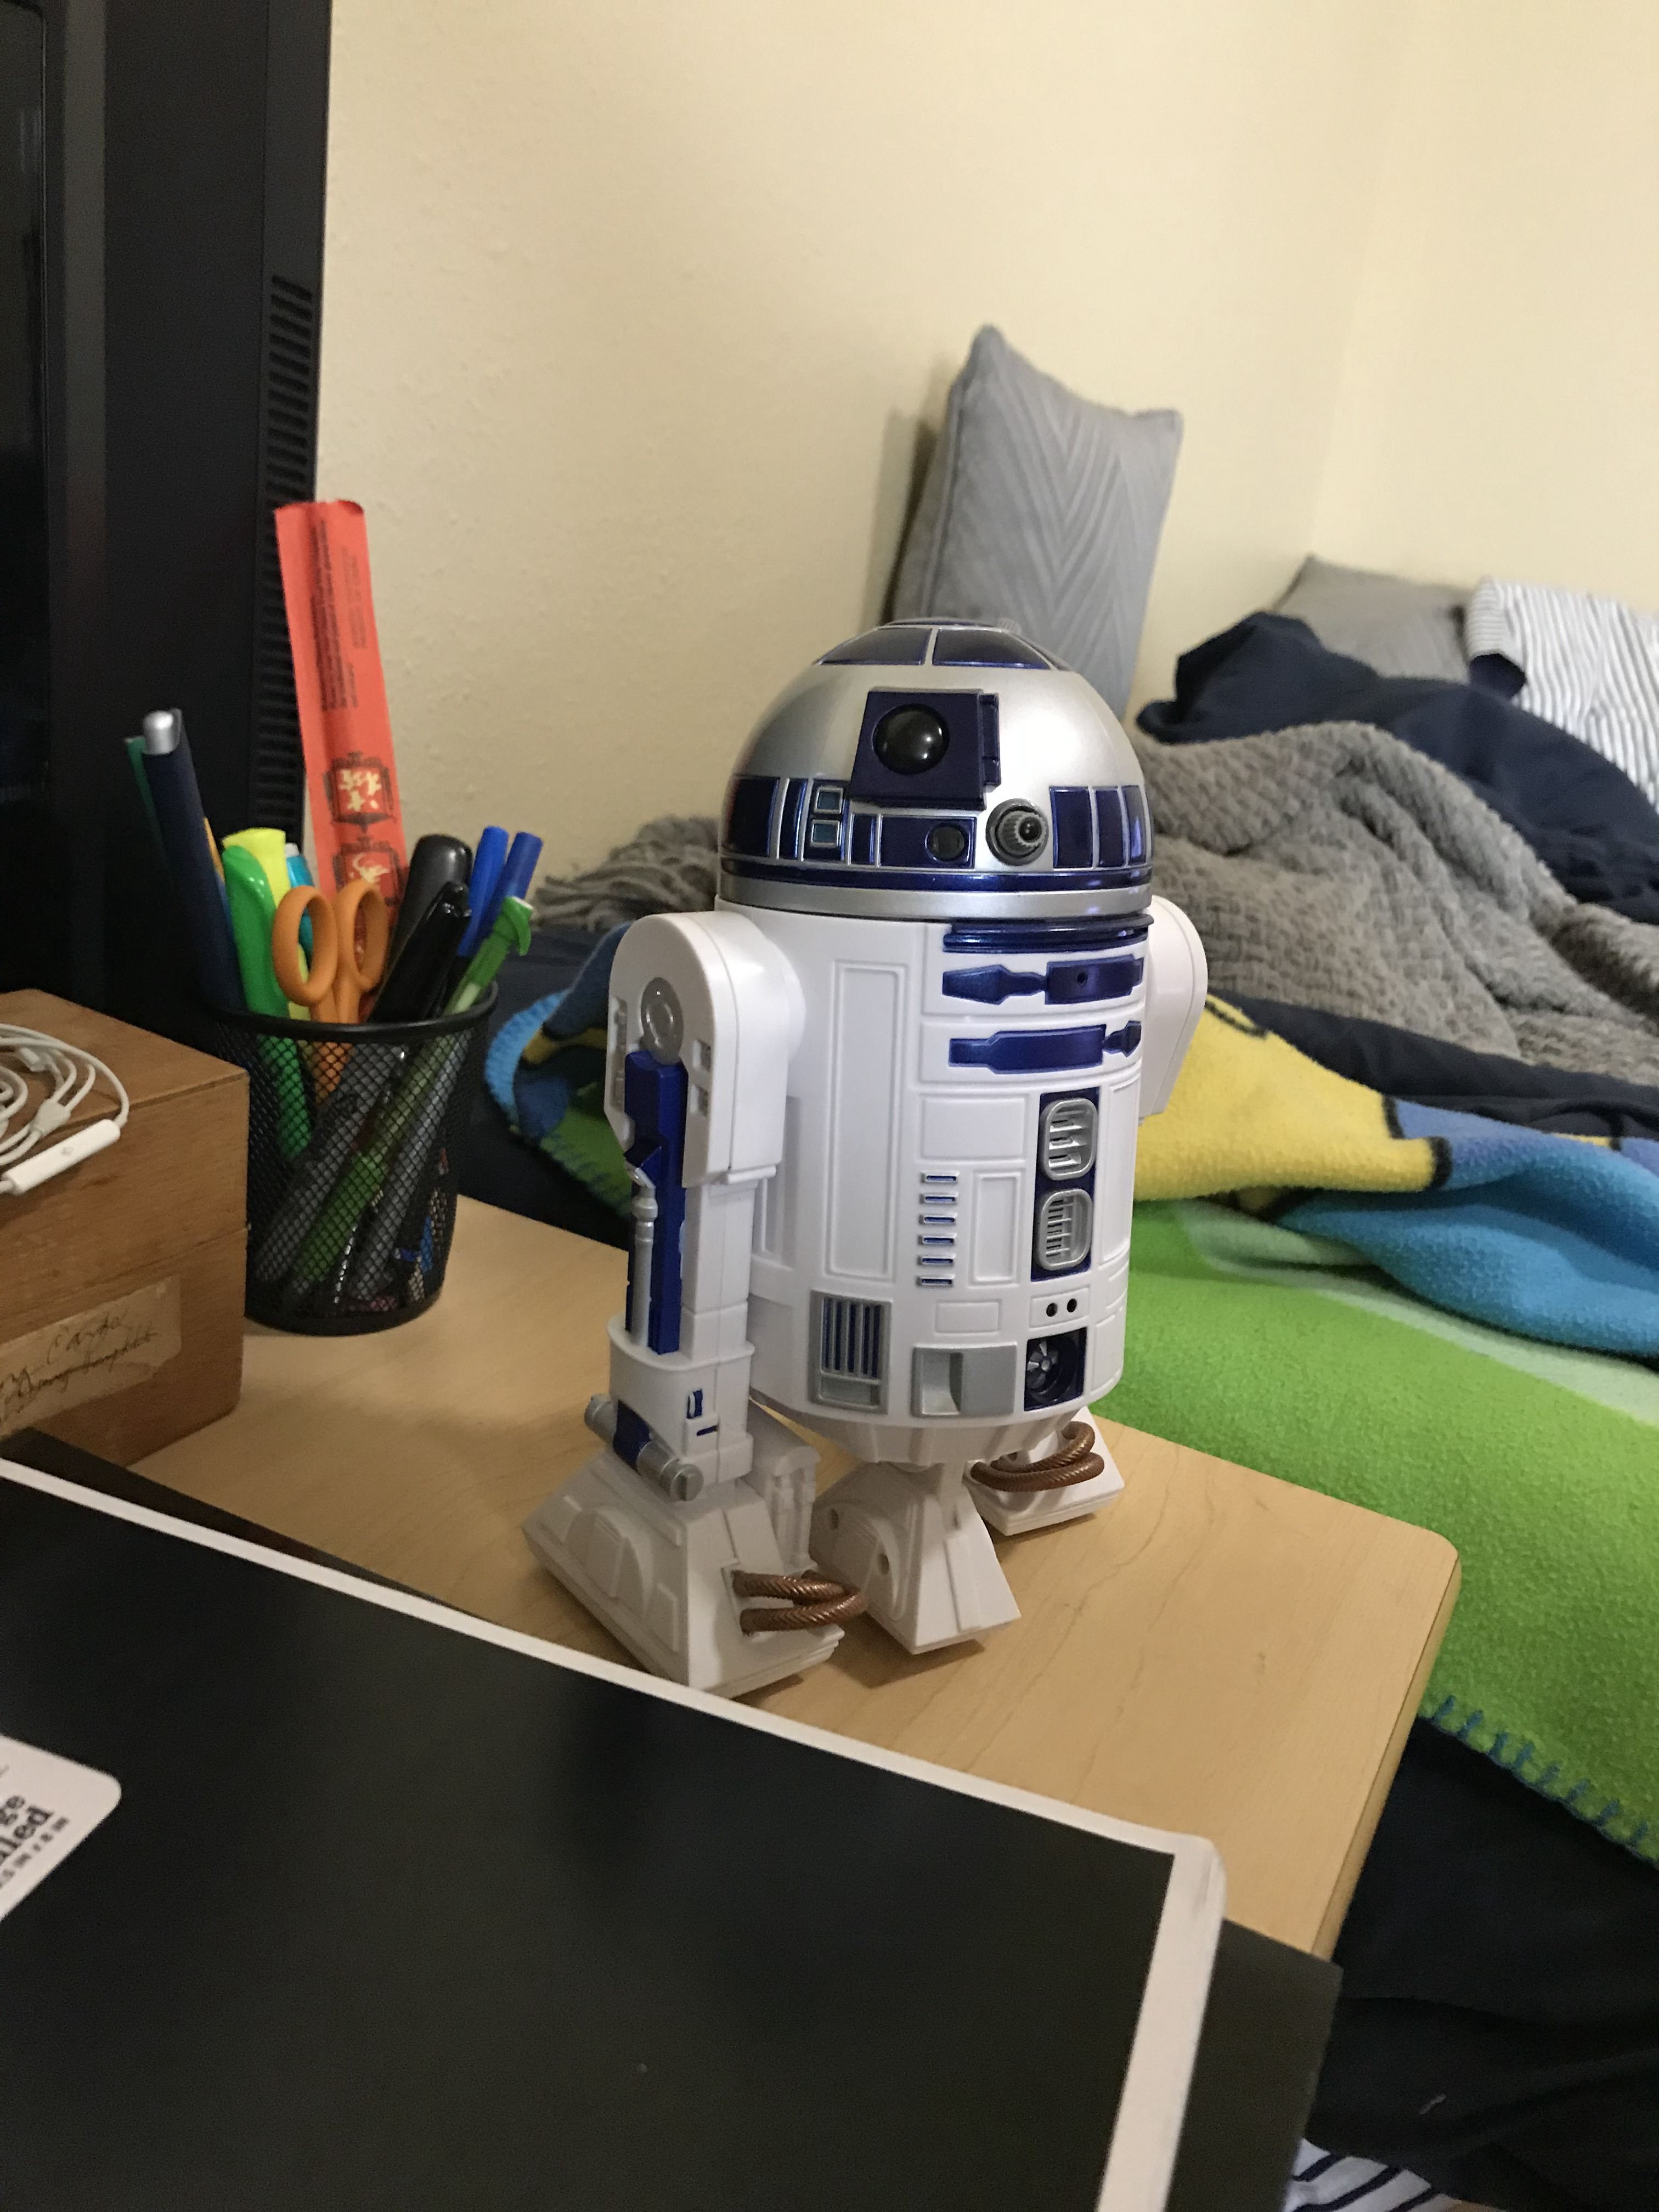r2d2: (561, 613, 1204, 1691)
